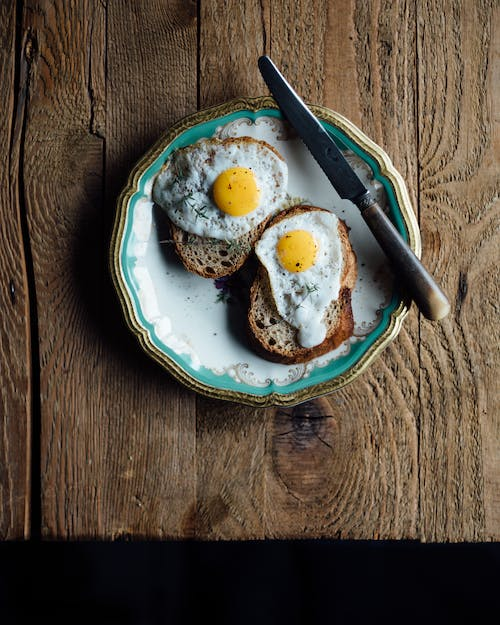knife: (256, 54, 452, 322)
